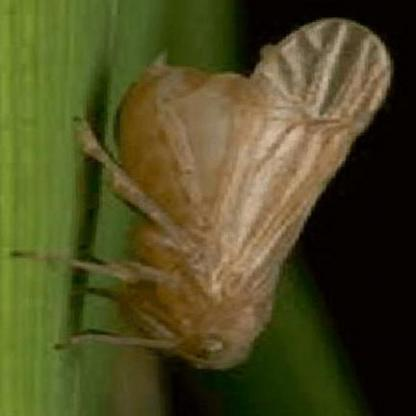brown-planthopper: (92, 22, 392, 370)
